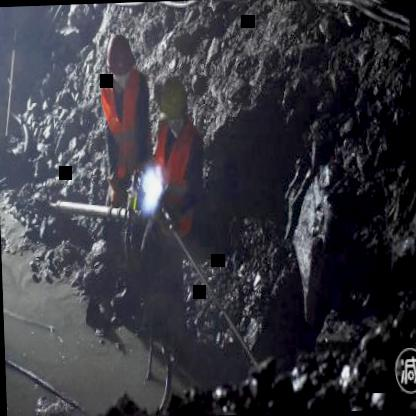helmet: (154, 76, 189, 130), (105, 32, 136, 90)
